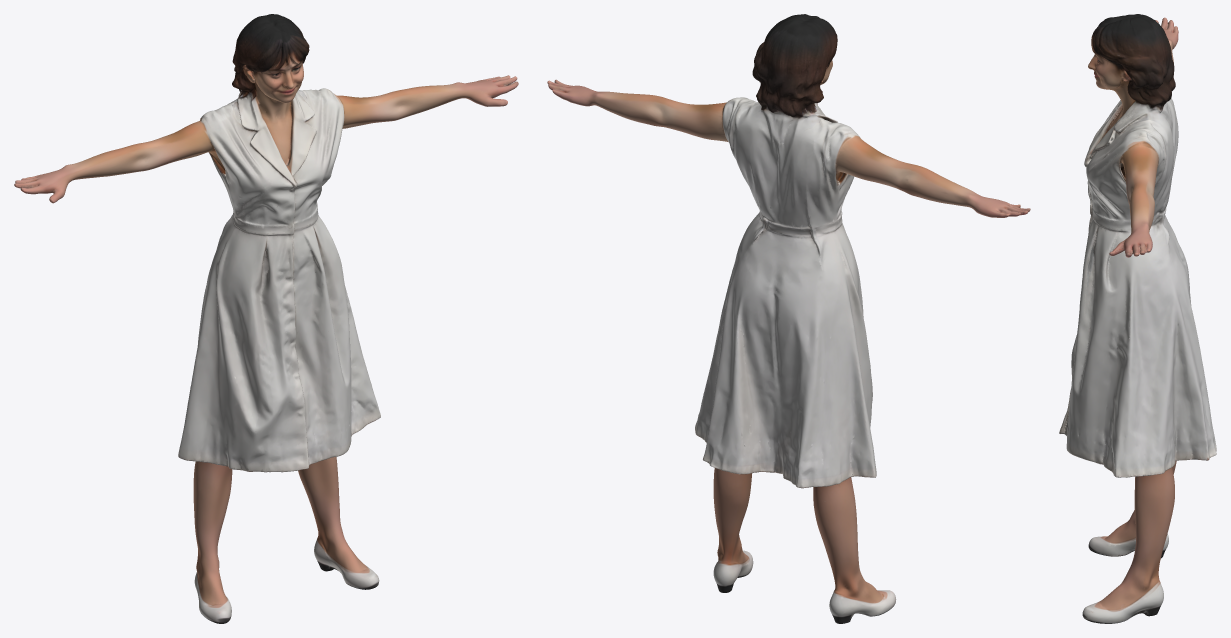
The model's file is Meshy_AI_Balance_in_White_0125133453_texture.fbx.
The picture shows the model from 3 angles, left to right: view 1: azimuth 30°, elevation 25°; view 2: azimuth 150°, elevation 25°; view 3: azimuth 270°, elevation 25°; orthographic projection. The views are drawn at different scales.
Parts seen in each view (by area): view 1: Mesh_0; view 2: Mesh_0; view 3: Mesh_0.
Boxes of the visible parts, x1=… form: Mesh_0: x1=14, y1=14, x2=518, y2=623; Mesh_0: x1=547, y1=14, x2=1030, y2=623; Mesh_0: x1=1059, y1=14, x2=1216, y2=623.
Size of the model in its own units: 169 by 190 by 47.93.
Materials: 1 (1 with a texture image).
